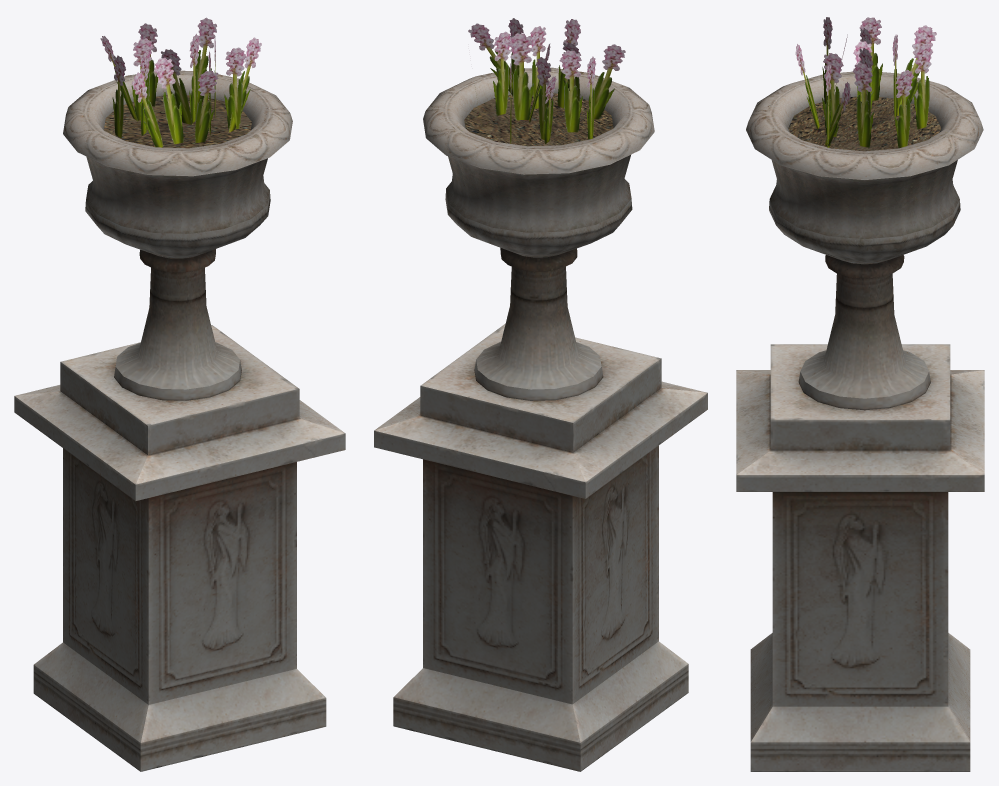
File: marblePlanter.dae
The picture shows the model from 3 angles, left to right: view 1: azimuth 30°, elevation 25°; view 2: azimuth 150°, elevation 25°; view 3: azimuth 270°, elevation 25°; orthographic projection. The views are drawn at different scales.
Visible parts, largest first — view 1: marblePlanter, Flowers; view 2: marblePlanter, Flowers; view 3: marblePlanter, Flowers.
Part boxes in pixels (x1,y1,x2,y2): marblePlanter: [14, 70, 345, 771]; Flowers: [100, 17, 261, 147]; marblePlanter: [374, 67, 707, 771]; Flowers: [468, 18, 625, 144]; marblePlanter: [736, 71, 984, 771]; Flowers: [795, 17, 936, 148].
Size of what is drawn, in the model's own units: 0.4145 by 1.26 by 0.4145.
Materials: 2 (2 with a texture image).
